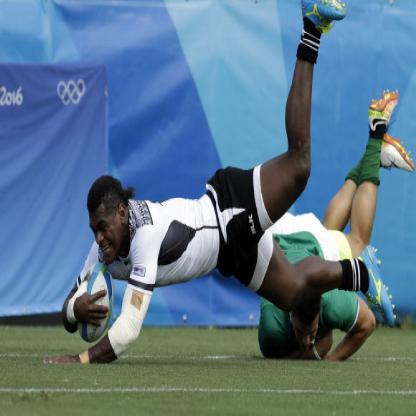Fall_Down: (42, 1, 394, 367)
